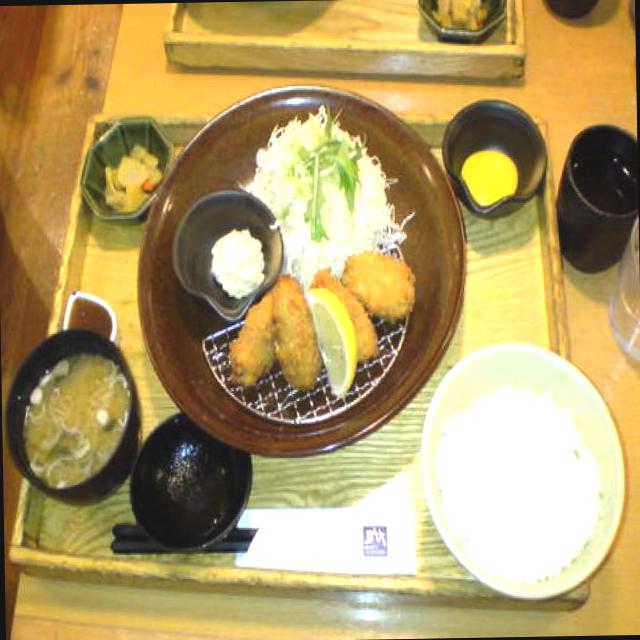Rice: (442, 386, 600, 564)
